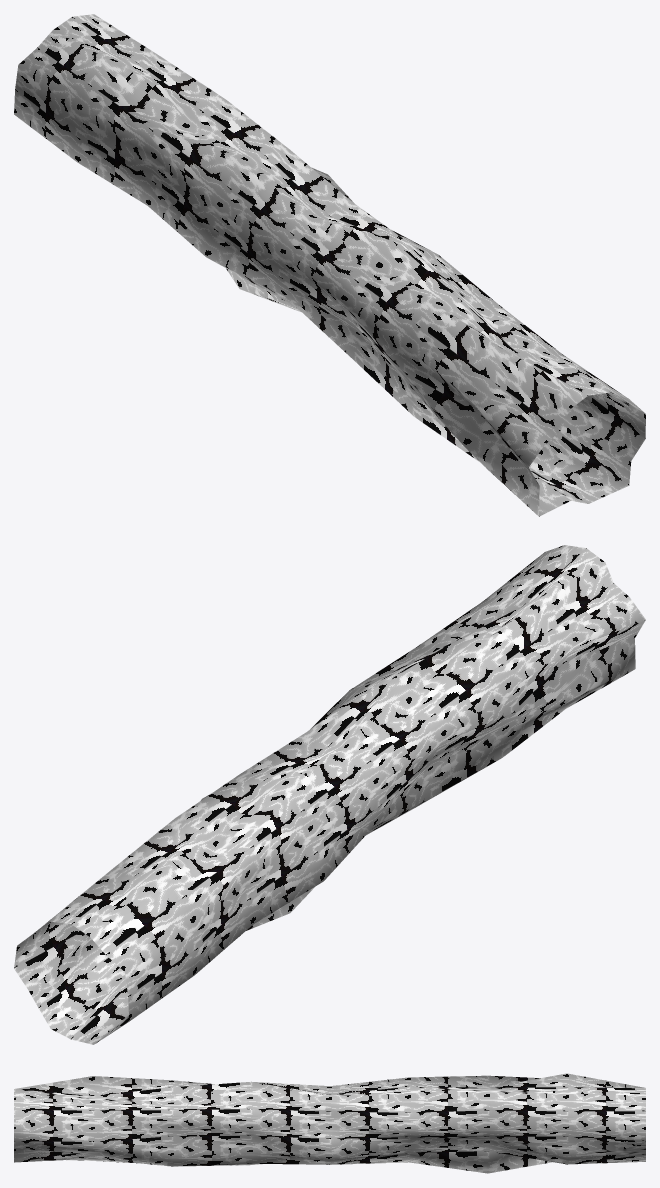
File: penv.obj
3 renders of one model, top to bottom at view 1: azimuth 30°, elevation 25°; view 2: azimuth 150°, elevation 25°; view 3: azimuth 270°, elevation 25°, orthographic. The views are drawn at different scales.
Visible parts, largest first — view 1: Cylinder.000_Cylinder.002; view 2: Cylinder.000_Cylinder.002; view 3: Cylinder.000_Cylinder.002.
Part boxes in pixels (box(x1,y1,x2,y2)): Cylinder.000_Cylinder.002: box(14, 14, 645, 516); Cylinder.000_Cylinder.002: box(14, 545, 645, 1044); Cylinder.000_Cylinder.002: box(14, 1073, 645, 1173).
Size of the model in its own units: 1.64 by 1.76 by 12.02.
Materials: 1 (1 with a texture image).
